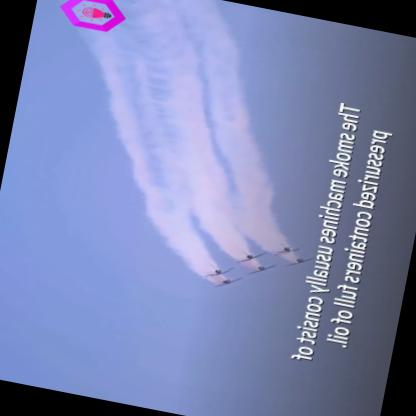plane: (272, 232, 302, 259), (204, 257, 231, 281)
